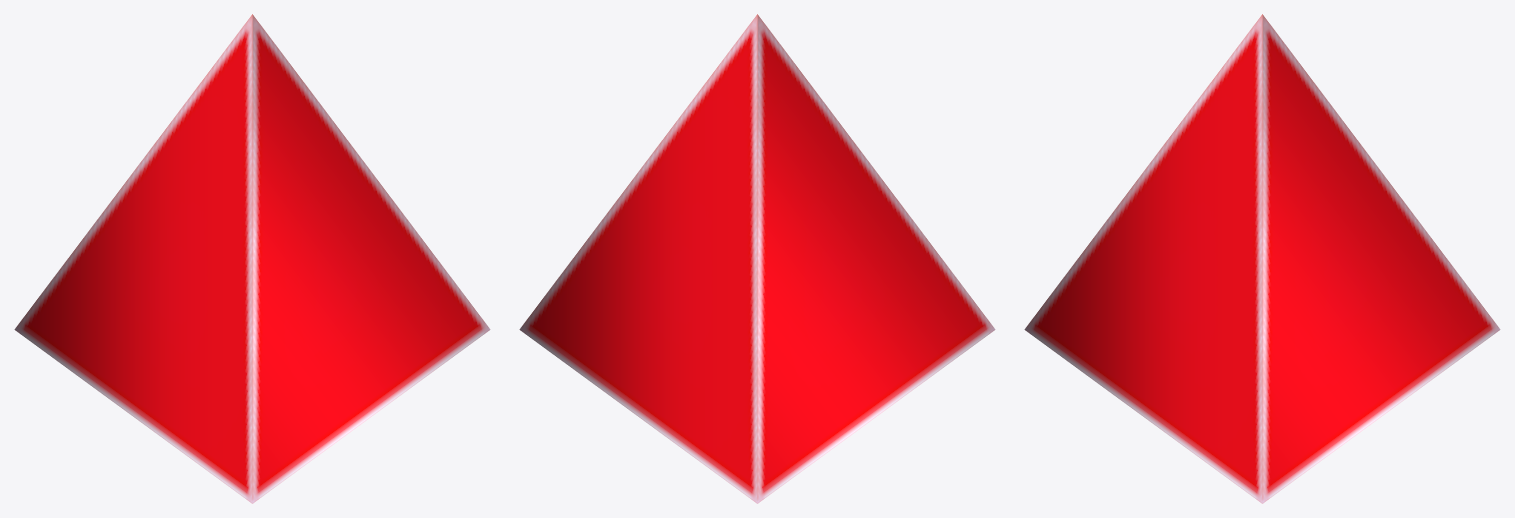
Rendered from biaozhi_sanlingxing.gltf.
3 views of the same model, side by side, from view 1: azimuth 30°, elevation 25°; view 2: azimuth 150°, elevation 25°; view 3: azimuth 270°, elevation 25° (orthographic).
Parts seen in each view (by area): view 1: biaozhi_sanlingxing; view 2: biaozhi_sanlingxing; view 3: biaozhi_sanlingxing.
Part boxes in pixels (left/top/right/bottom): biaozhi_sanlingxing: left=14, top=14, right=490, bottom=503; biaozhi_sanlingxing: left=519, top=14, right=995, bottom=503; biaozhi_sanlingxing: left=1024, top=14, right=1500, bottom=503.
Size of the model in its own units: 0.0179 by 0.0179 by 0.0206.
1 material, 1 textured.
